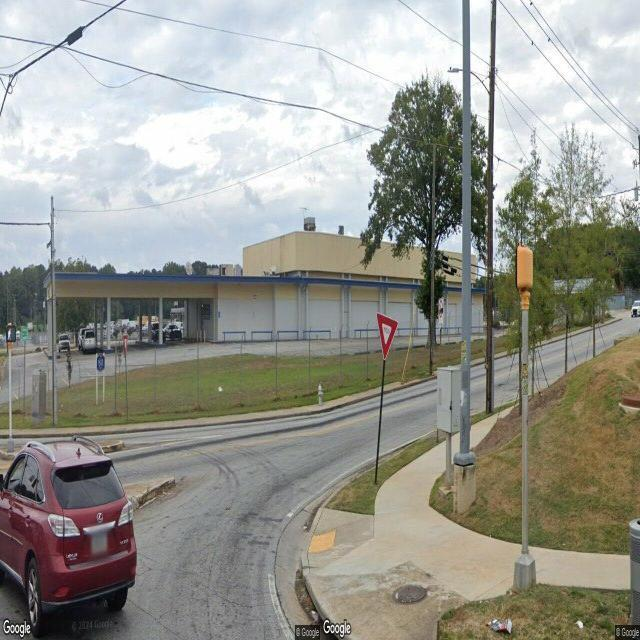trash_can: (628, 517, 640, 636)
